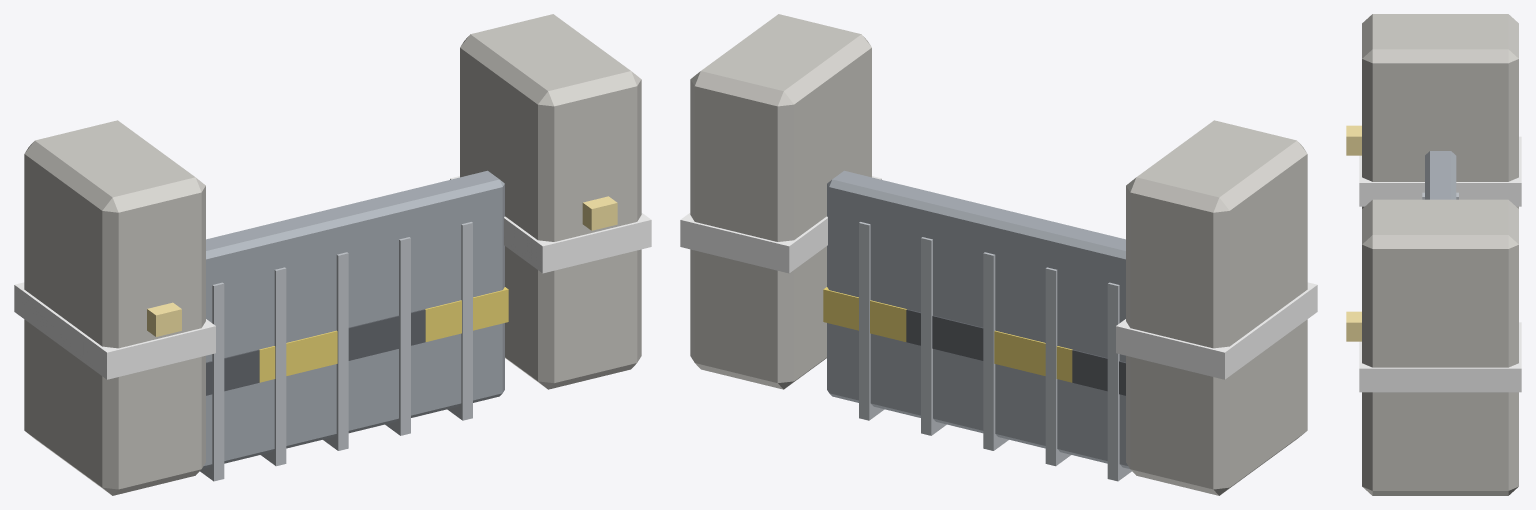
Rendered from gate.glb.
The picture shows the model from 3 angles, left to right: view 1: azimuth 30°, elevation 25°; view 2: azimuth 150°, elevation 25°; view 3: azimuth 270°, elevation 25°; orthographic projection. The views are drawn at different scales.
Visible parts, largest first — view 1: main; view 2: main; view 3: main.
Part boxes in pixels (x1,y1,x2,y2): main: (14,14,651,495); main: (680,14,1317,495); main: (1346,14,1521,495).
Bounding box in the file's own units: 1.05 × 0.62 × 0.335.
